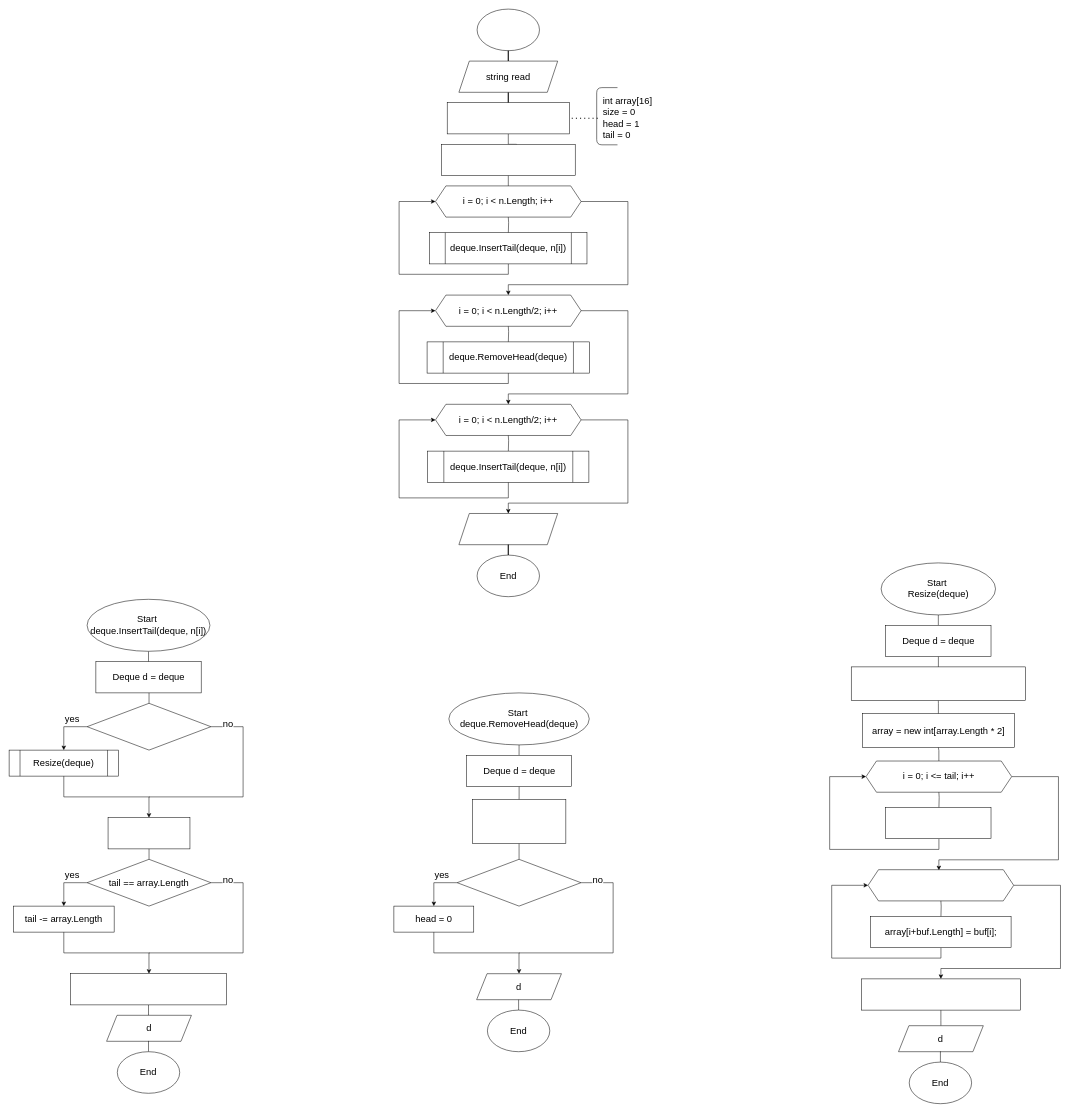
Some shapes in this 1074 by 1113 pixel diagram are drawn without their labels. The shapes that lost their labels are listed below. From the top down, each one's centre as x and y in pixels, then its label:
At point (508, 30): "Start".
At point (508, 118): "create new Deque deque".
At point (508, 160): "char[] n = read.ToCharArray".
At point (508, 529): "deque".
At point (938, 683): "Array.Copy(array, buf, array.Length)".
At point (149, 726): "size == array.Length".
At point (149, 833): "size++ tail++".
At point (519, 821): "size-- array[head] = 0 head++;".
At point (938, 822): "array[i] = buf[i];".
At point (519, 882): "head == array.Length".
At point (941, 885): "i = head; i <= buf.Length; i++".
At point (148, 989): "array[tail % array.Length] = data".
At point (940, 994): "head = head + array.Length / 2".
